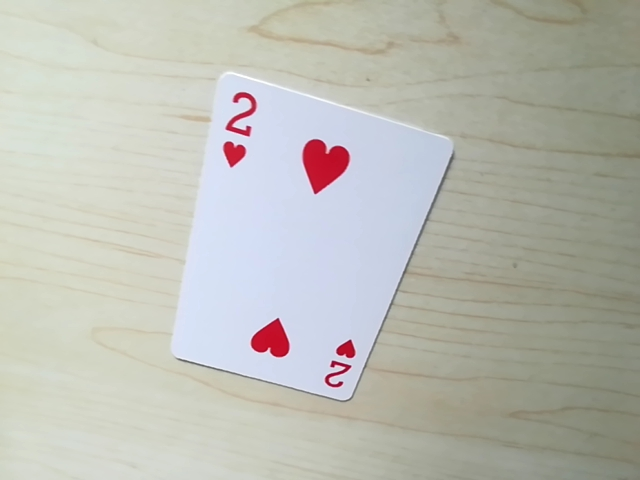hx 2: (213, 83, 260, 165), (319, 341, 365, 398)
